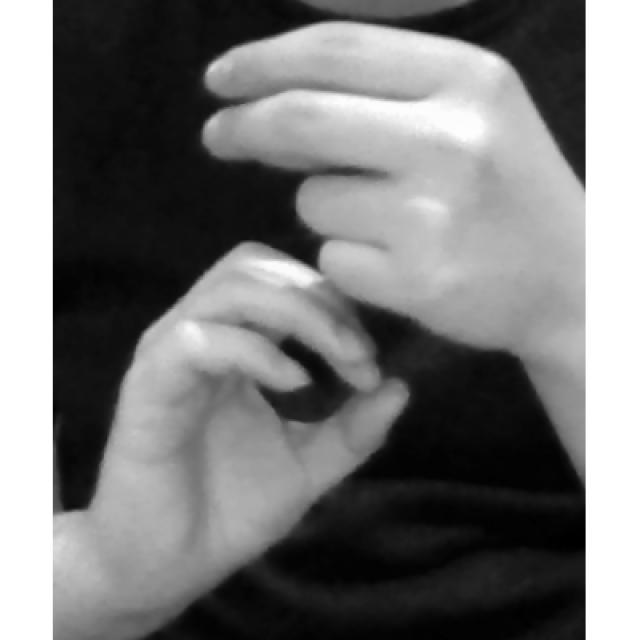O--: (92, 19, 586, 618)
